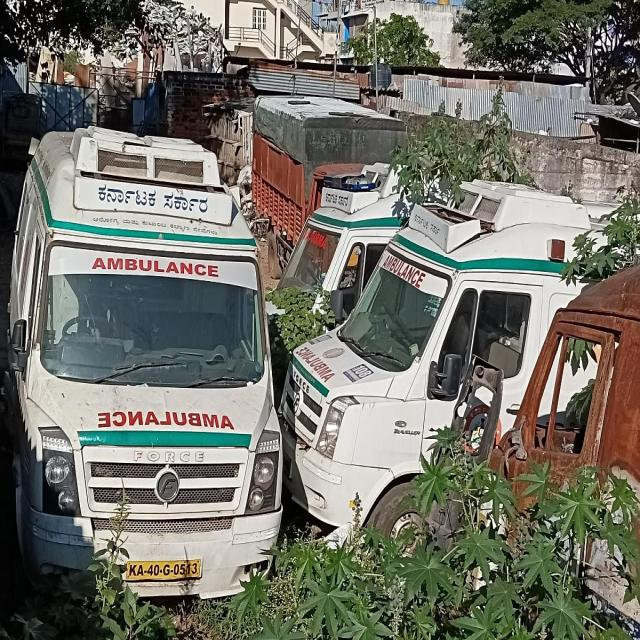emergency: (6, 126, 280, 597), (281, 181, 590, 536)
